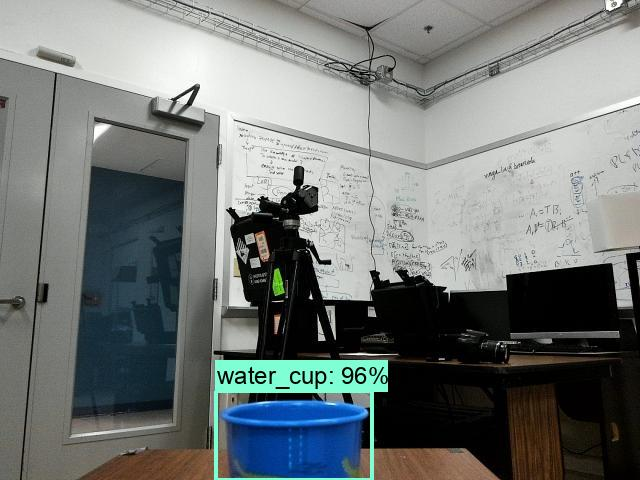water_cup: (218, 391, 368, 480)
